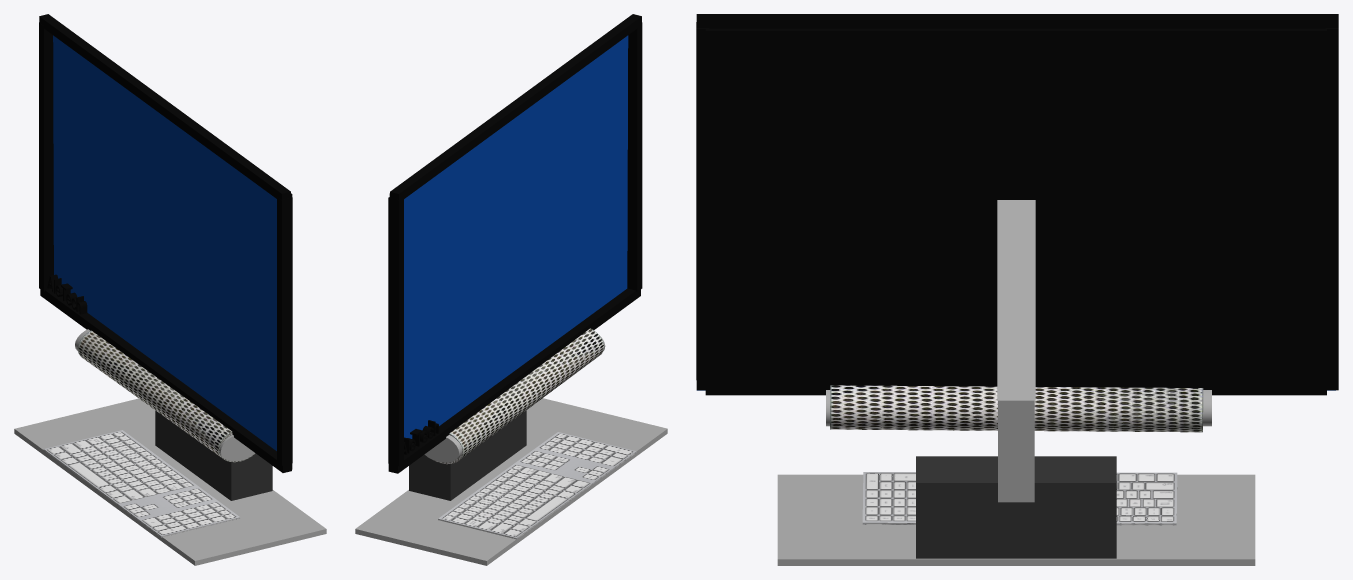
File: desktop-computer.fbx
3 views of the same model, side by side, from view 1: azimuth 30°, elevation 25°; view 2: azimuth 150°, elevation 25°; view 3: azimuth 270°, elevation 25° (orthographic). The views are drawn at different scales.
Visible parts, largest first — view 1: Plane, Box7, Box9, Cylinder, Box1, Box10, Box4, Box3, Box2, Cylinder1, TV; view 2: Plane, Box7, Box9, Cylinder, Box1, Box3, Box10, Box4, Box2, Cylinder1, TV; view 3: Box5, Box7, Box10, Cylinder, Box1, Box6, Box9, Box3, Box8, Box4.
Part boxes in pixels (x1=…): Plane: x1=53, y1=35, x2=276, y2=450; Box7: x1=14, y1=398, x2=326, y2=565; Box9: x1=43, y1=430, x2=240, y2=537; Cylinder: x1=77, y1=330, x2=254, y2=462; Box1: x1=39, y1=14, x2=290, y2=199; Box10: x1=155, y1=410, x2=272, y2=500; Box4: x1=277, y1=196, x2=292, y2=465; Box3: x1=39, y1=22, x2=53, y2=291; Box2: x1=40, y1=289, x2=291, y2=472; Cylinder1: x1=75, y1=329, x2=255, y2=461; TV: x1=47, y1=274, x2=87, y2=314; Plane: x1=404, y1=35, x2=628, y2=438; Box7: x1=355, y1=398, x2=667, y2=565; Box9: x1=438, y1=432, x2=636, y2=539; Cylinder: x1=434, y1=328, x2=604, y2=464; Box1: x1=390, y1=14, x2=641, y2=199; Box3: x1=388, y1=197, x2=403, y2=466; Box10: x1=409, y1=410, x2=526, y2=500; Box4: x1=627, y1=22, x2=642, y2=291; Box2: x1=388, y1=288, x2=640, y2=473; Cylinder1: x1=424, y1=335, x2=605, y2=462; TV: x1=404, y1=420, x2=439, y2=454; Box5: x1=705, y1=28, x2=1326, y2=395; Box7: x1=777, y1=474, x2=1255, y2=565; Box10: x1=916, y1=456, x2=1116, y2=558; Cylinder: x1=830, y1=385, x2=1203, y2=432; Box1: x1=696, y1=14, x2=1338, y2=28; Box6: x1=997, y1=200, x2=1035, y2=400; Box9: x1=862, y1=472, x2=1177, y2=525; Box3: x1=1325, y1=28, x2=1338, y2=380; Box8: x1=998, y1=400, x2=1034, y2=502; Box4: x1=696, y1=22, x2=709, y2=380.
Size of the model in its own units: 1.32 by 2.77 by 3.2.
Materials: 6 (2 with a texture image).
